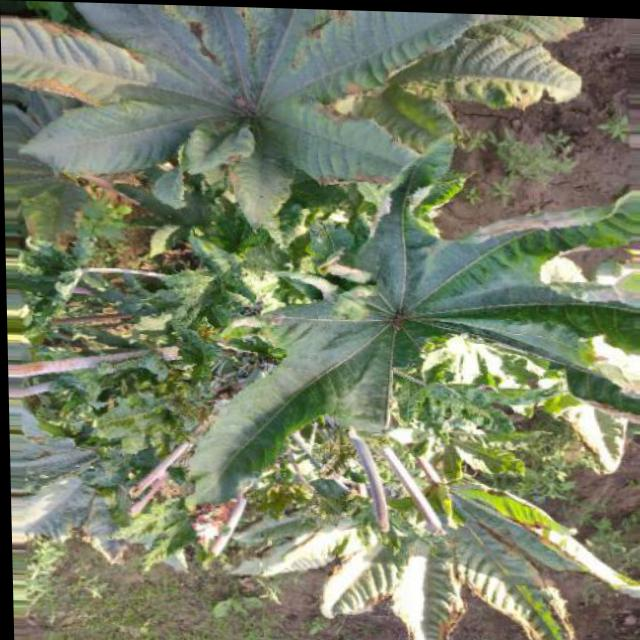weed: (13, 10, 627, 628)
